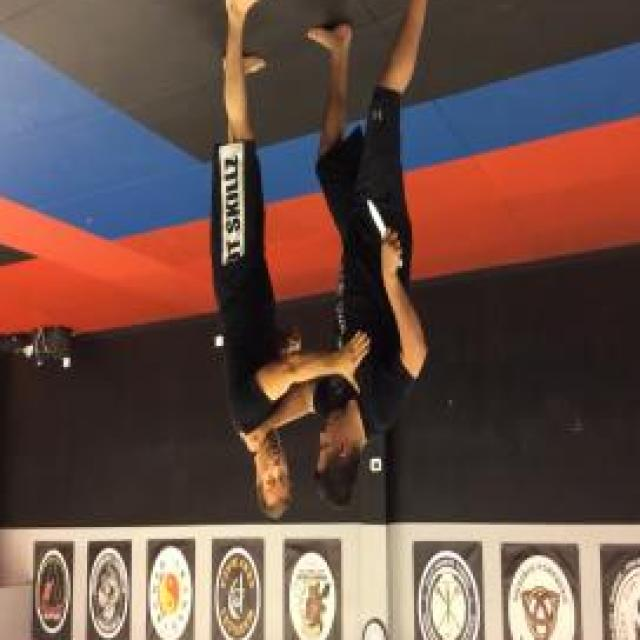knife: (362, 188, 407, 273)
